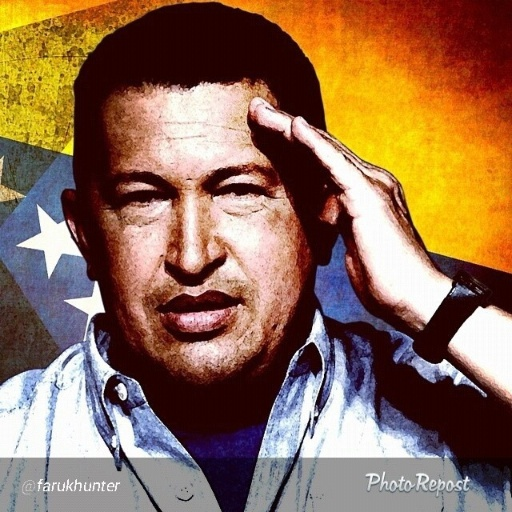hand: (269, 98, 472, 355)
